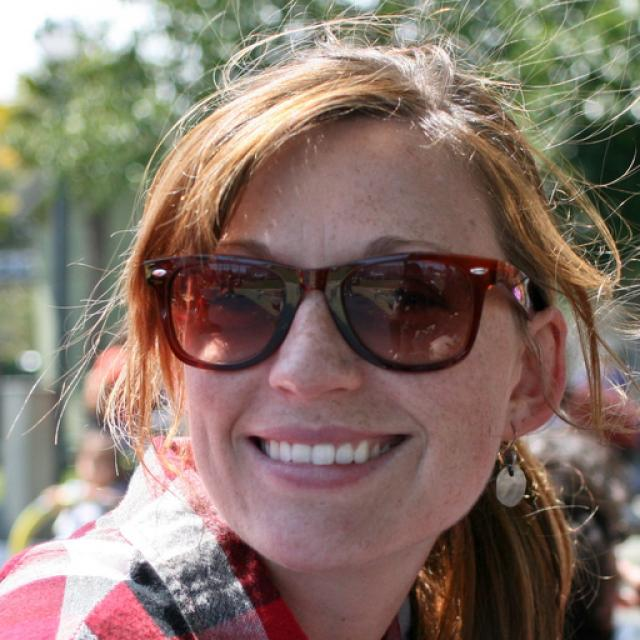happy: (169, 128, 519, 576)
